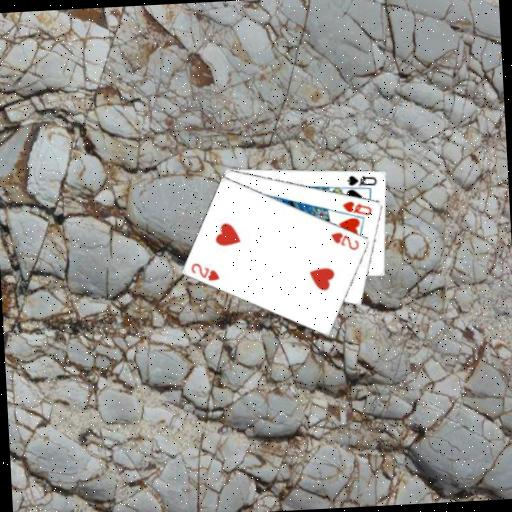2H: (188, 259, 222, 284), (328, 228, 361, 253)
QH: (339, 196, 374, 218)
QS: (344, 171, 379, 188)
